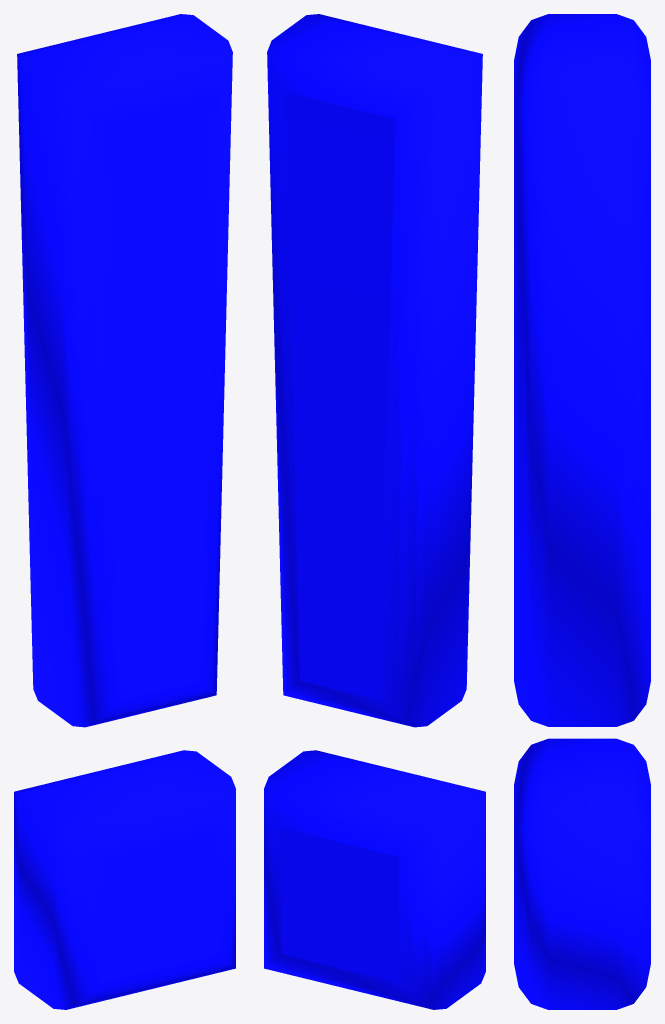
The picture shows the model from 3 angles, left to right: view 1: azimuth 30°, elevation 25°; view 2: azimuth 150°, elevation 25°; view 3: azimuth 270°, elevation 25°; orthographic projection.
Parts seen in each view (by area): view 1: IndicatorExclamationPointBlue; view 2: IndicatorExclamationPointBlue; view 3: IndicatorExclamationPointBlue.
Boxes of the visible parts, x1,y1,x2,y2 form: IndicatorExclamationPointBlue: (14,14,235,1009); IndicatorExclamationPointBlue: (264,14,485,1009); IndicatorExclamationPointBlue: (514,14,650,1009).
Size of the model in its own units: 0.0953 by 0.4743 by 0.0645.
1 material, 1 textured.
